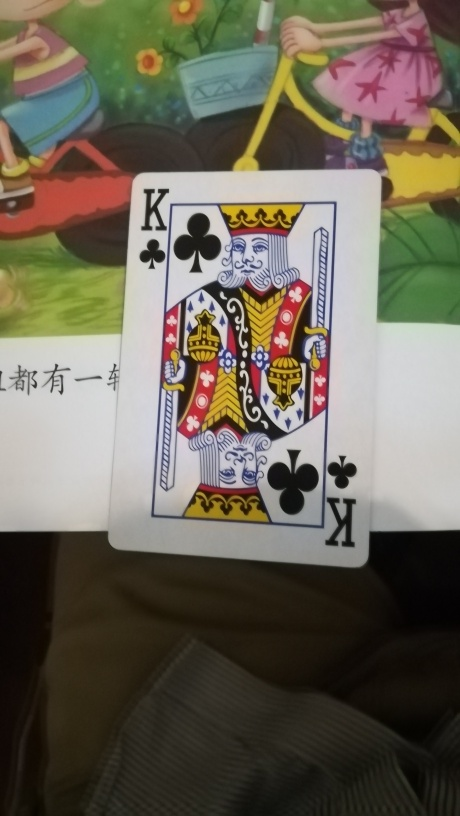mh k: (105, 165, 383, 573)
